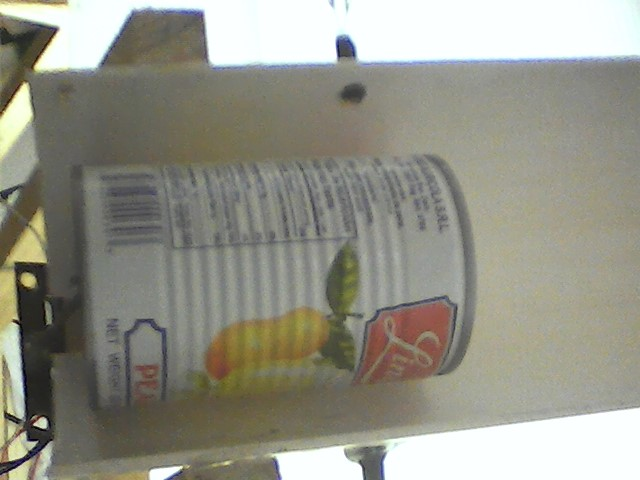lata: (69, 153, 486, 420)
